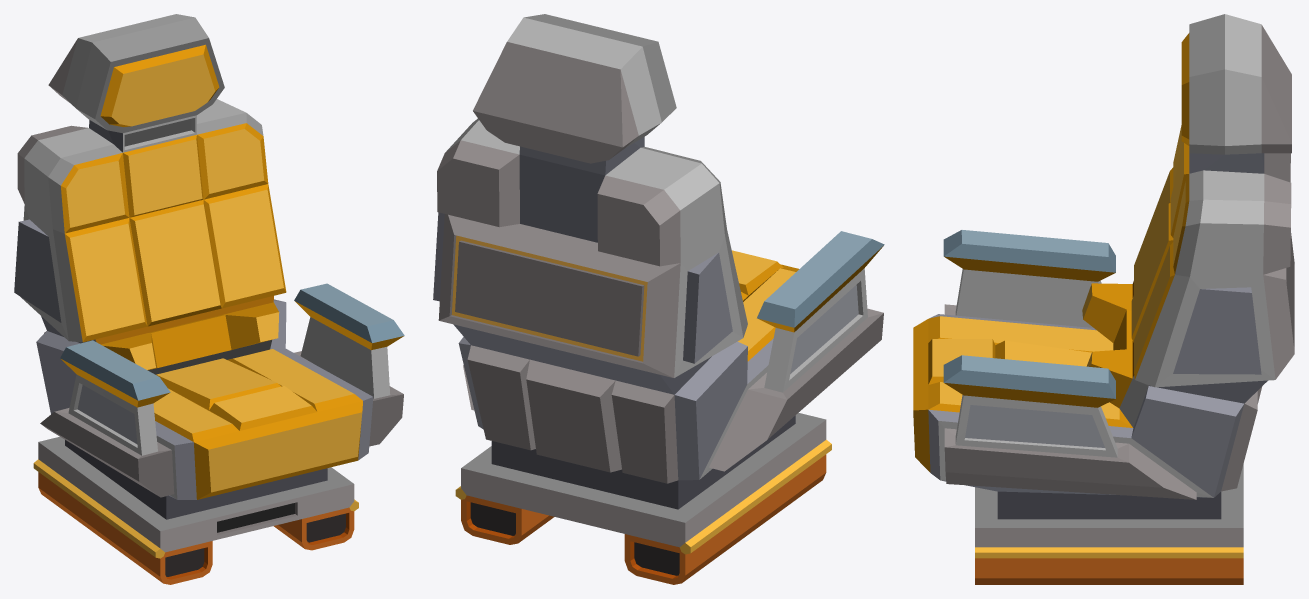
File: ChairShip_01.glb
3 views of the same model, side by side, from view 1: azimuth 30°, elevation 25°; view 2: azimuth 150°, elevation 25°; view 3: azimuth 270°, elevation 25° (orthographic). The views are drawn at different scales.
Parts seen in each view (by area): view 1: ChairShip_01; view 2: ChairShip_01; view 3: ChairShip_01.
Boxes of the visible parts, bbox=[...] form: ChairShip_01: bbox=[14, 14, 404, 584]; ChairShip_01: bbox=[433, 14, 884, 584]; ChairShip_01: bbox=[913, 14, 1294, 584].
Size of what is drawn, in the model's own units: 1.24 by 2 by 1.39.
1 material, 1 textured.
